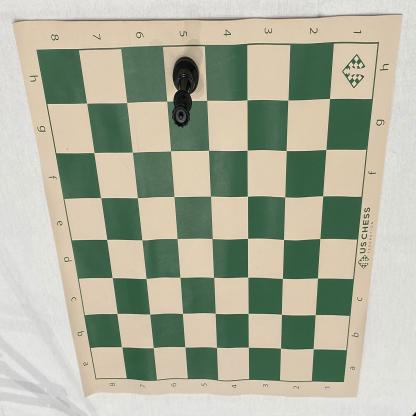black-queen: (172, 56, 200, 128)
